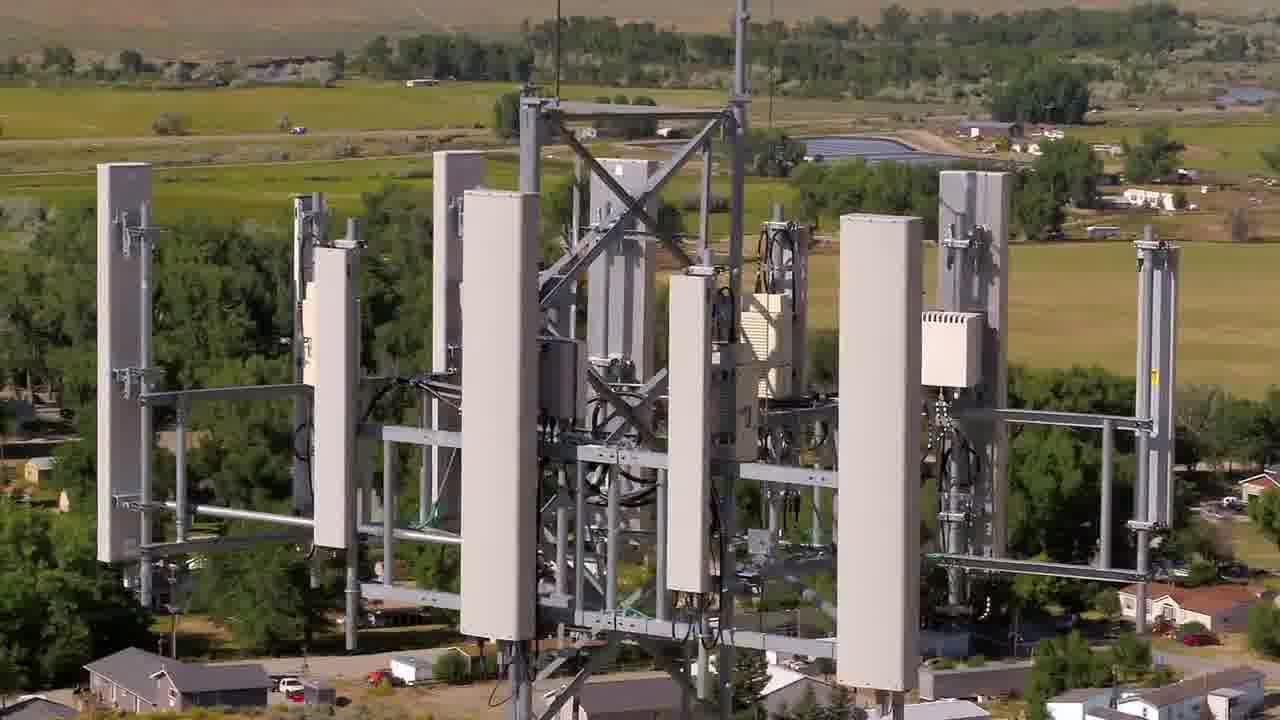antenna: (834, 200, 937, 707), (448, 172, 552, 657), (76, 144, 155, 566), (935, 173, 999, 588), (664, 259, 721, 606), (663, 261, 716, 614), (309, 238, 367, 552), (583, 147, 644, 444), (1137, 232, 1191, 538), (425, 149, 483, 391)
